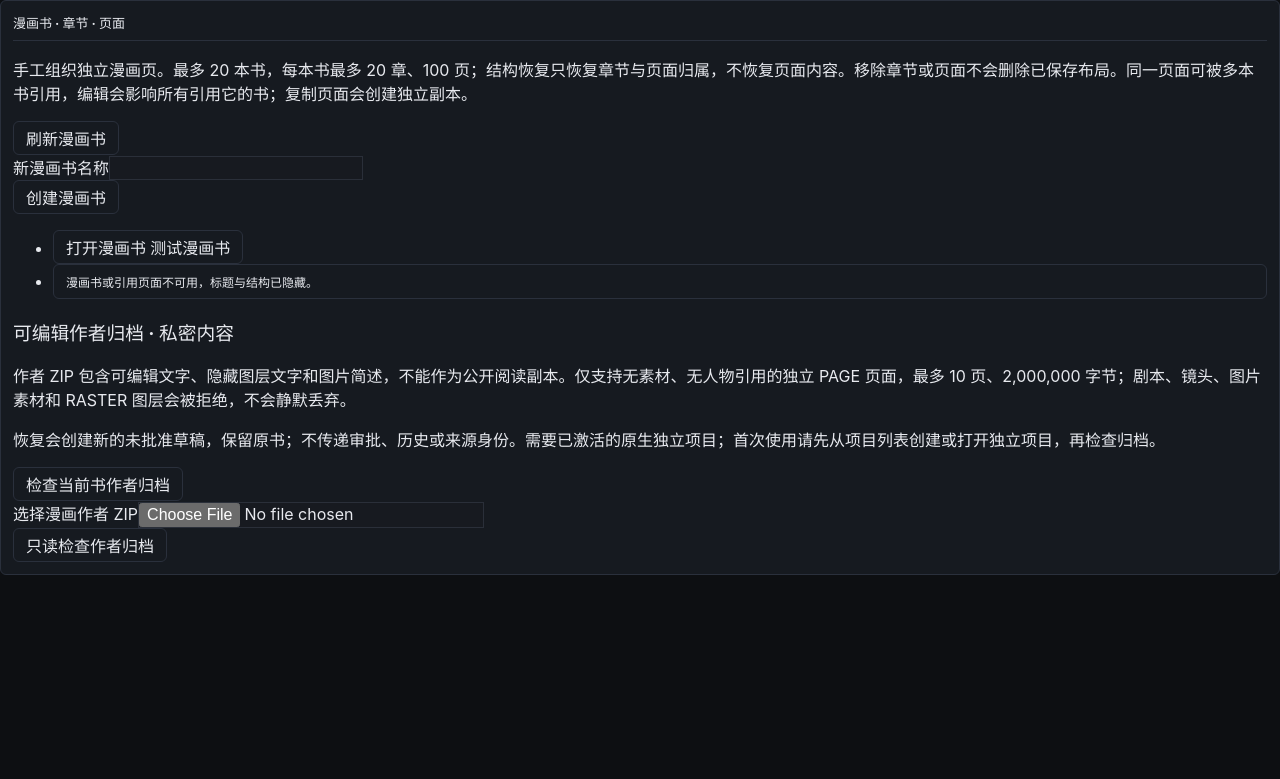
reads only on mount, hides stale book and page titles, and exposes independent pages only
The image size is (1280, 779).
Click the button "打开漫画书 测试漫画书": x=148, y=247 [53,230,243,264]
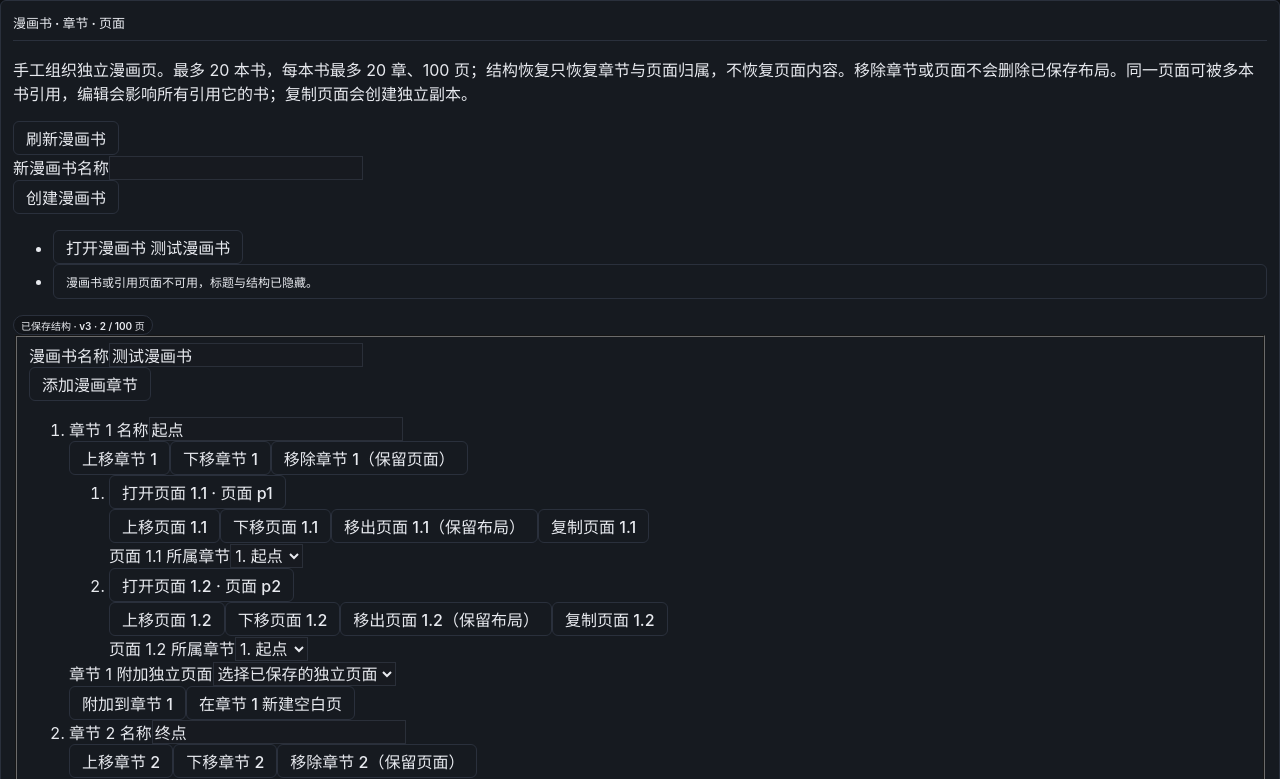
Now the text "已保存结构 · v3 · 2 / 100 页" is shown, box [13,315,153,335]
